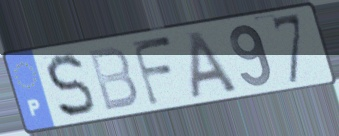7: (270, 11, 307, 86)
9: (228, 23, 275, 89)
A: (185, 27, 242, 102)
B: (85, 44, 141, 114)
F: (129, 34, 178, 108)
S: (44, 51, 98, 121)
